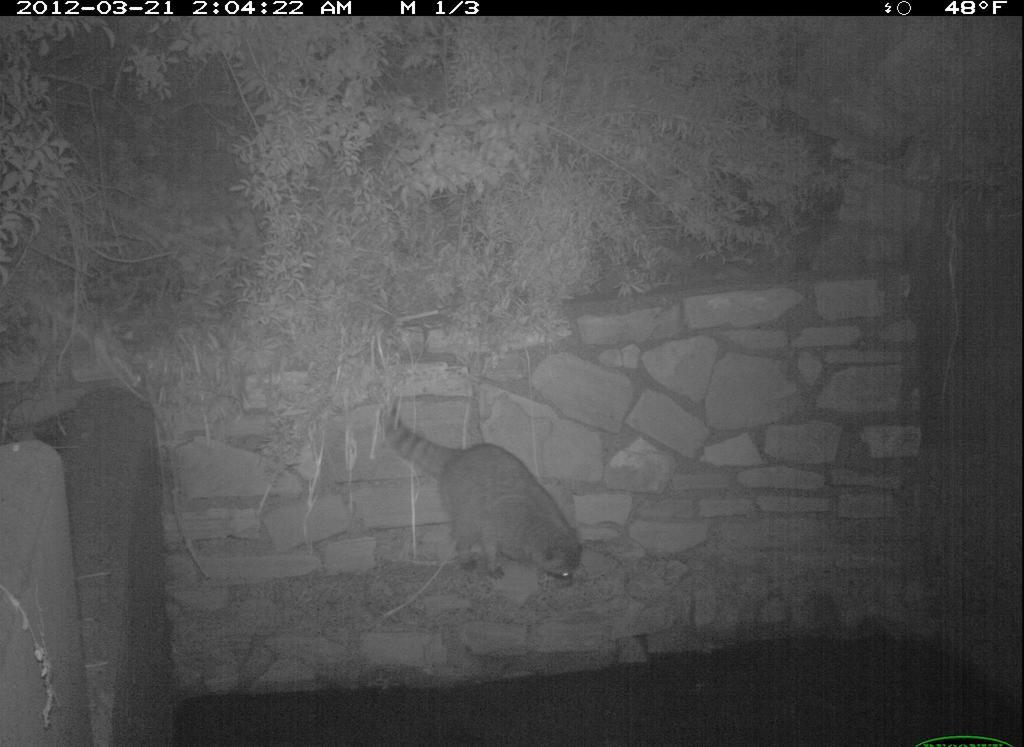raccoon: (354, 391, 603, 602)
